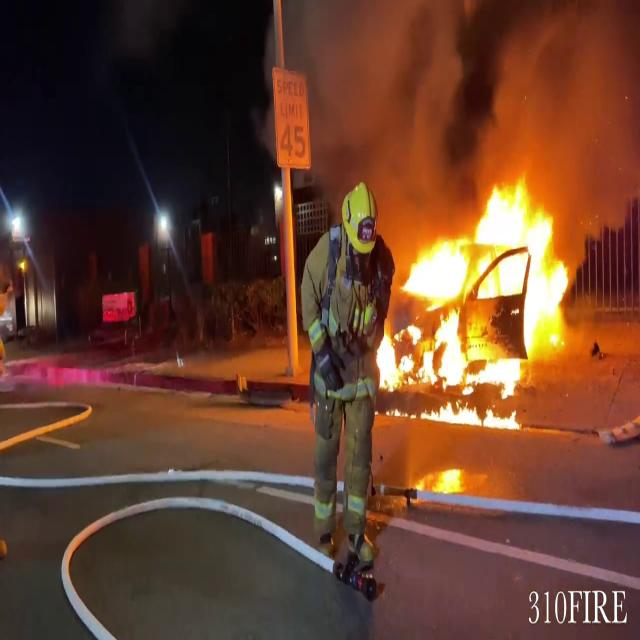Fire: (381, 170, 583, 428)
Smoke: (284, 0, 629, 196)
